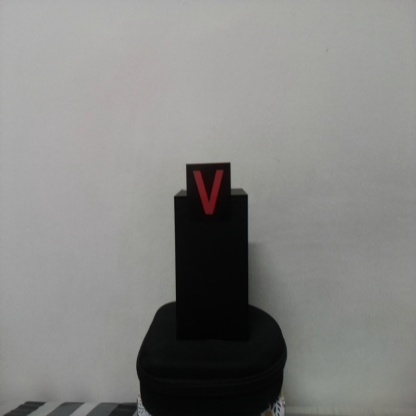id_11: (187, 164, 231, 222)
